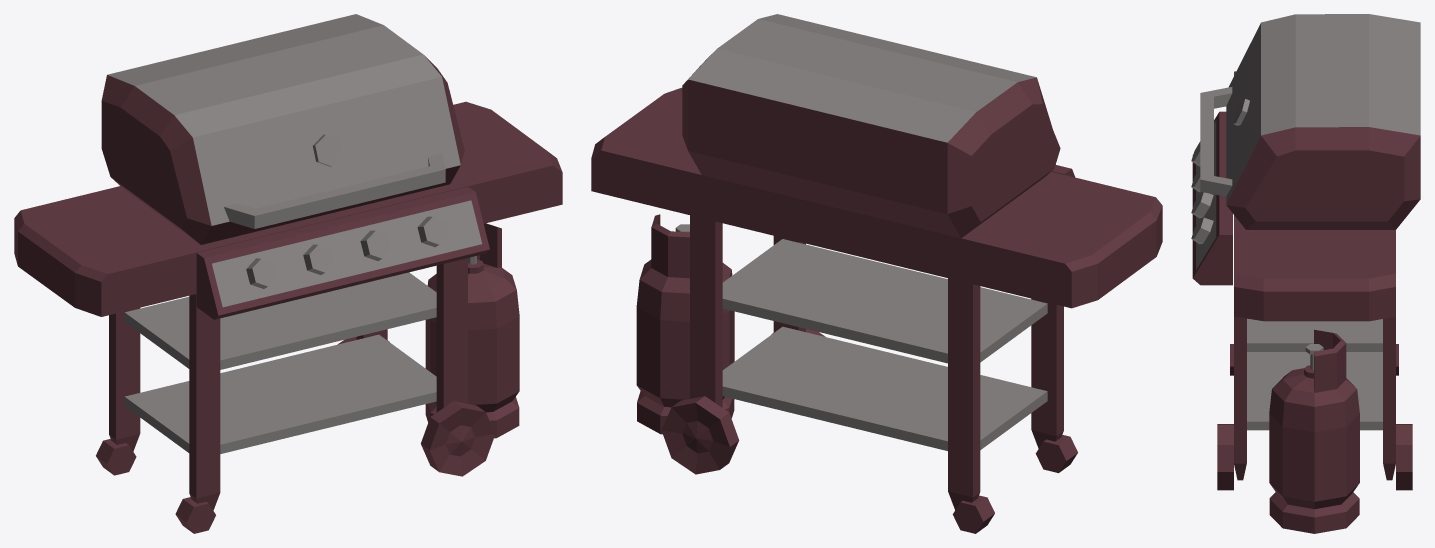
The model's file is grill-gas.fbx.
The picture shows the model from 3 angles, left to right: view 1: azimuth 30°, elevation 25°; view 2: azimuth 150°, elevation 25°; view 3: azimuth 270°, elevation 25°; orthographic projection. The views are drawn at different scales.
Visible parts, largest first — view 1: grill-gas-base, grill-gas-top; view 2: grill-gas-base, grill-gas-top; view 3: grill-gas-base, grill-gas-top.
Boxes of the visible parts, left/top/right/bottom form: grill-gas-base: left=14, top=101, right=562, bottom=533; grill-gas-top: left=101, top=14, right=464, bottom=244; grill-gas-base: left=591, top=87, right=1162, bottom=533; grill-gas-top: left=682, top=14, right=1060, bottom=238; grill-gas-base: left=1191, top=71, right=1412, bottom=533; grill-gas-top: left=1200, top=14, right=1420, bottom=229.
Size of the model in its own units: 1.6 by 1.24 by 0.7082.
